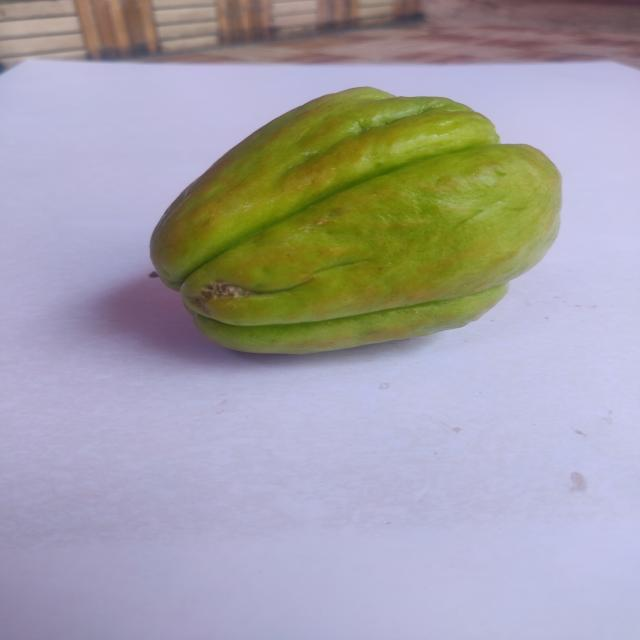Chayote: (143, 76, 572, 364)
